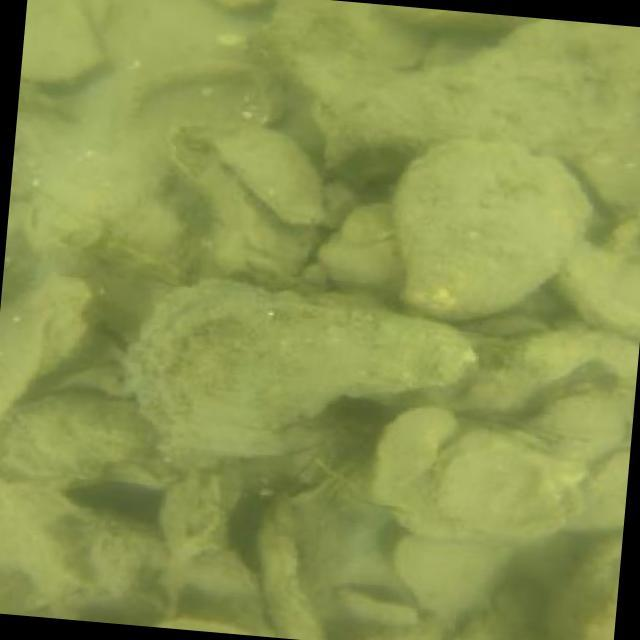Oyster- Indeterminate: (261, 18, 640, 168), (391, 137, 586, 321), (169, 122, 320, 279), (444, 416, 587, 536), (364, 406, 481, 537), (0, 396, 155, 493), (275, 1, 423, 68), (394, 539, 508, 618), (547, 531, 619, 640), (22, 0, 99, 82), (316, 241, 401, 305)
Oyster-Closed: (124, 283, 470, 457), (214, 126, 322, 224), (556, 232, 640, 337), (539, 386, 630, 448)
